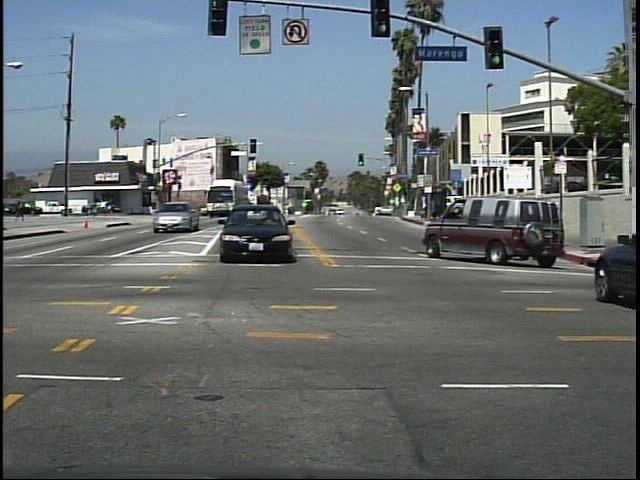person: (12, 197, 29, 226)
